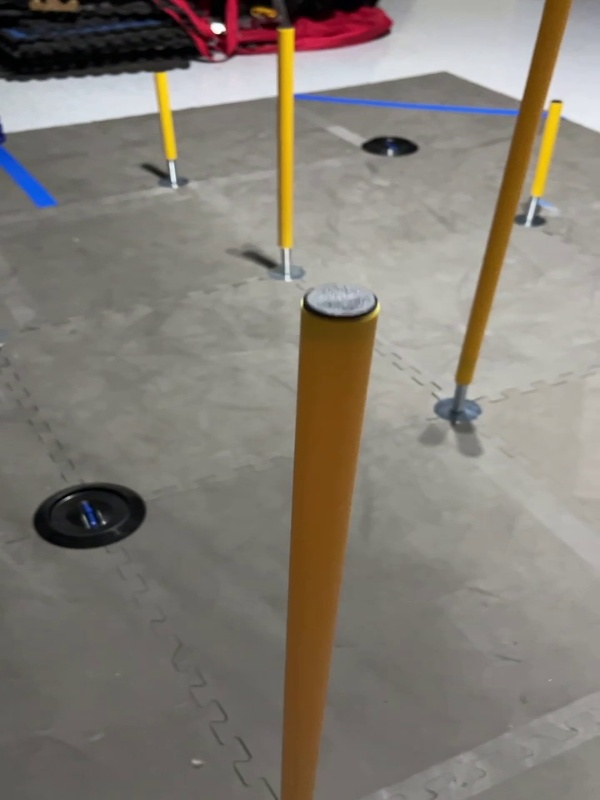top: (292, 278, 385, 328)
